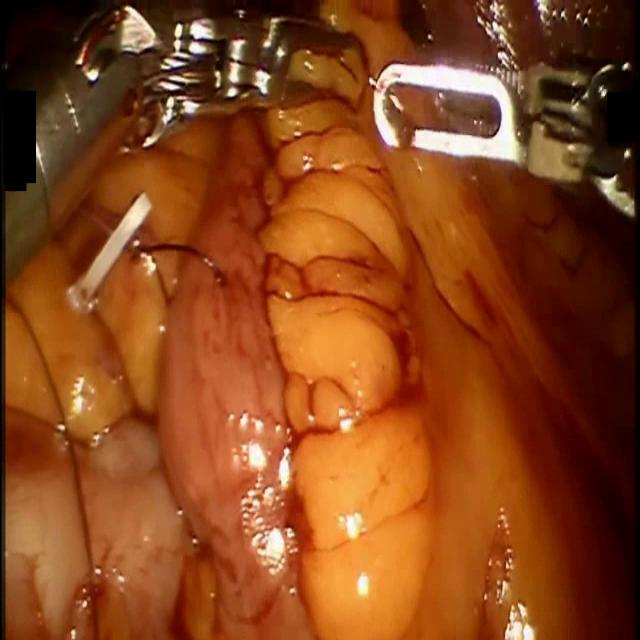surgical-area: (4, 0, 640, 639)
surgical-tool: (0, 0, 358, 292), (372, 58, 638, 225)
